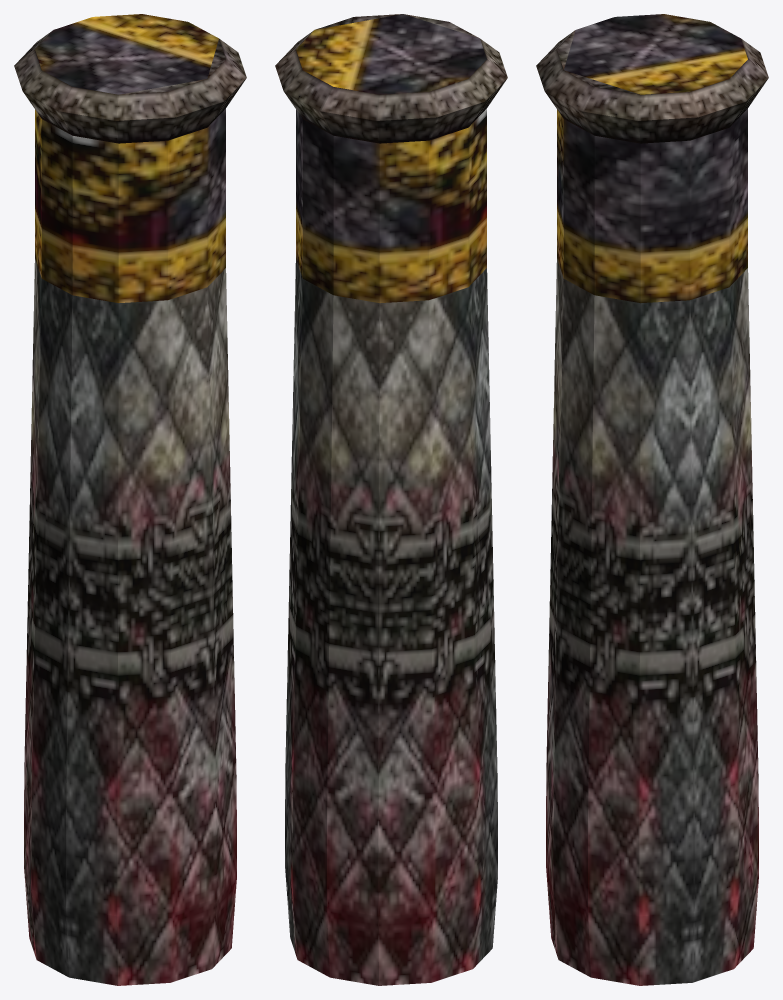
The model's file is ITAC_EMPTY_SMALL.glb.
The picture shows the model from 3 angles, left to right: view 1: azimuth 30°, elevation 25°; view 2: azimuth 150°, elevation 25°; view 3: azimuth 270°, elevation 25°; orthographic projection.
Parts seen in each view (by area): view 1: ITAC_EMPTY_SMALL; view 2: ITAC_EMPTY_SMALL; view 3: ITAC_EMPTY_SMALL.
Boxes of the visible parts, left/top/right/bottom form: ITAC_EMPTY_SMALL: left=14, top=14, right=246, bottom=985; ITAC_EMPTY_SMALL: left=275, top=14, right=507, bottom=985; ITAC_EMPTY_SMALL: left=536, top=14, right=768, bottom=985.
Bounding box in the file's own units: 0.0503 × 0.212 × 0.0503.
Materials: 1 (1 with a texture image).
